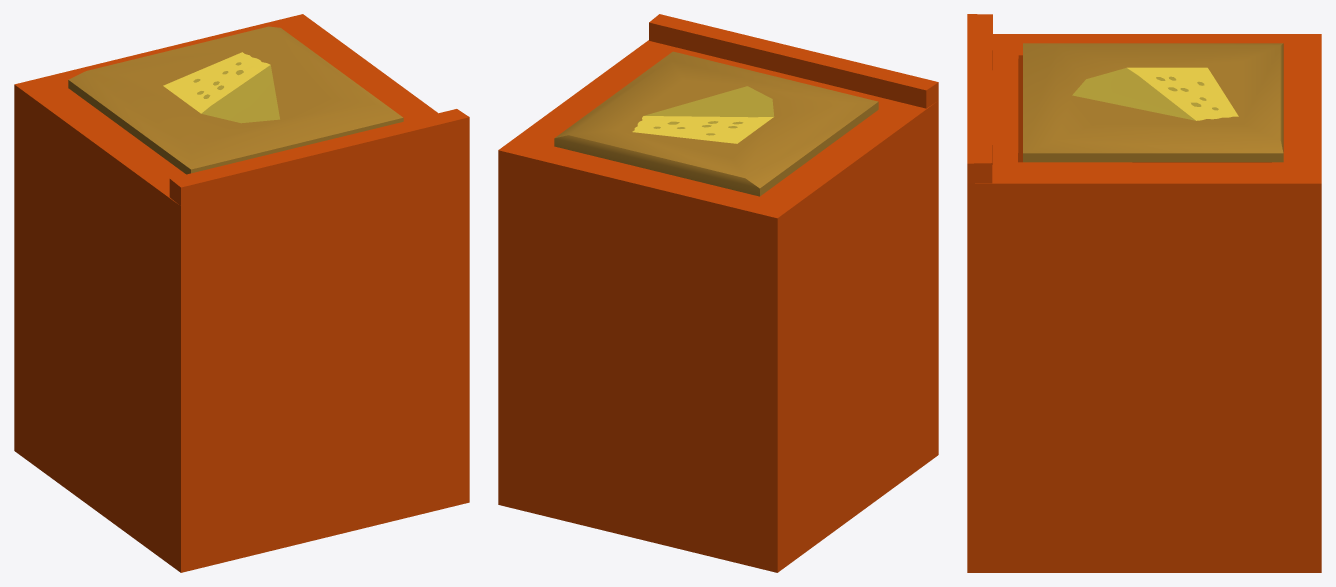
The model's file is BancadaDeQueijo.fbx.
3 views of the same model, side by side, from view 1: azimuth 30°, elevation 25°; view 2: azimuth 150°, elevation 25°; view 3: azimuth 270°, elevation 25° (orthographic). The views are drawn at different scales.
Parts seen in each view (by area): view 1: Bancada de Queijo.002, Bancada de Queijo; view 2: Bancada de Queijo.002, Bancada de Queijo; view 3: Bancada de Queijo.002, Bancada de Queijo.
Boxes of the visible parts, left/top/right/bottom form: Bancada de Queijo.002: left=14, top=14, right=469, bottom=572; Bancada de Queijo: left=68, top=26, right=403, bottom=174; Bancada de Queijo.002: left=498, top=14, right=938, bottom=572; Bancada de Queijo: left=554, top=51, right=878, bottom=196; Bancada de Queijo.002: left=967, top=14, right=1321, bottom=572; Bancada de Queijo: left=1023, top=43, right=1283, bottom=162.
Size of the model in its own units: 49.1 by 62.64 by 49.1.
